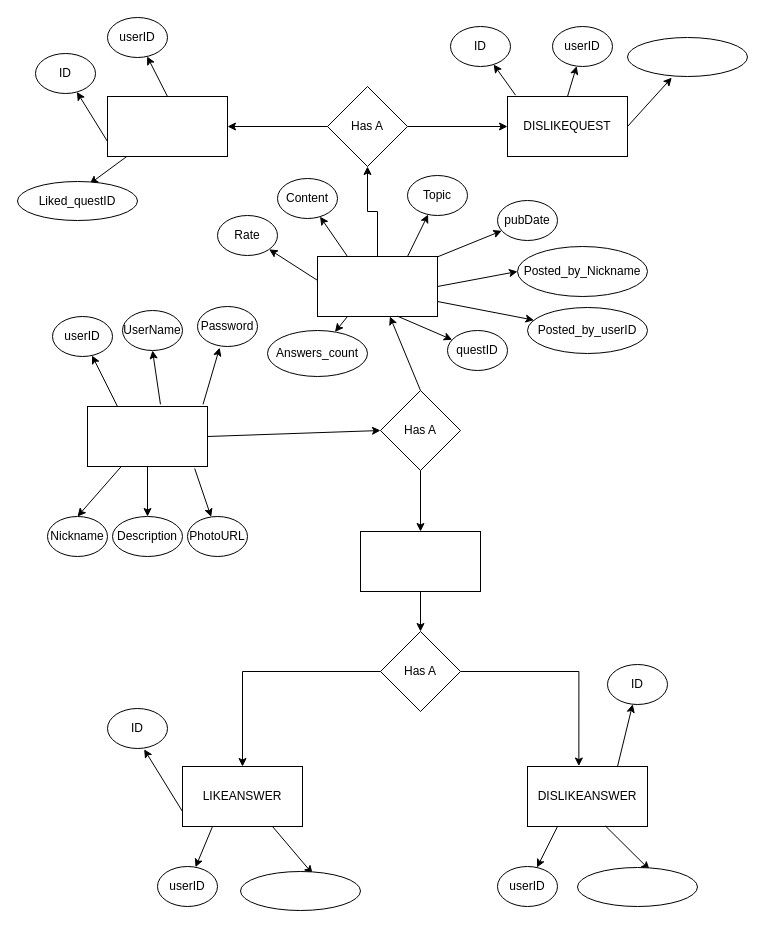
Some shapes in this 765 by 928 pixel diagram are drawn without their labels. The shapes that lost their labels are listed below. From the top down, each one's centre as x and y in pixels, then its label:
At (x=687, y=56): "DisLiked_questID".
At (x=167, y=126): "LIKEQUEST".
At (x=377, y=286): "Question".
At (x=147, y=436): "User".
At (x=420, y=561): "Answer".
At (x=300, y=890): "Liked_answerID".
At (x=637, y=886): "DisLiked_answerID".
